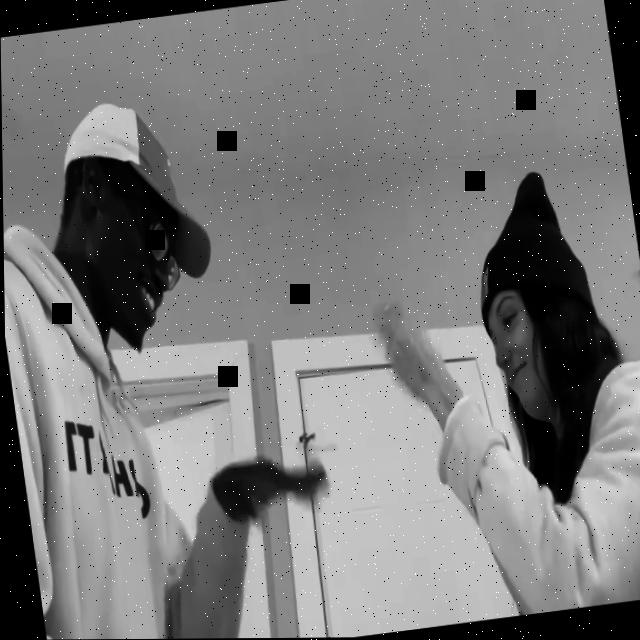Paper: (208, 449, 329, 523)
Scissors: (361, 292, 442, 399)
